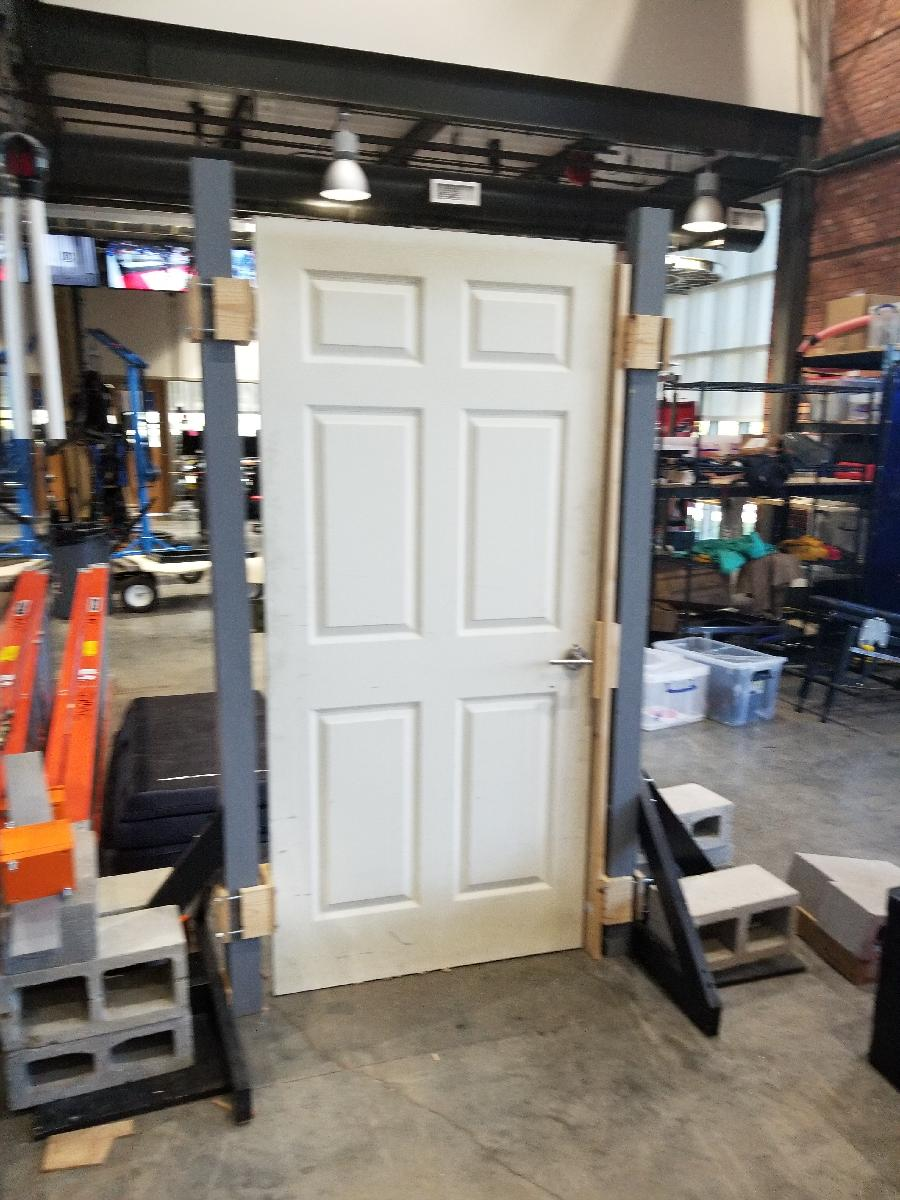door: (250, 207, 625, 1004)
doorHandle: (546, 644, 594, 676)
